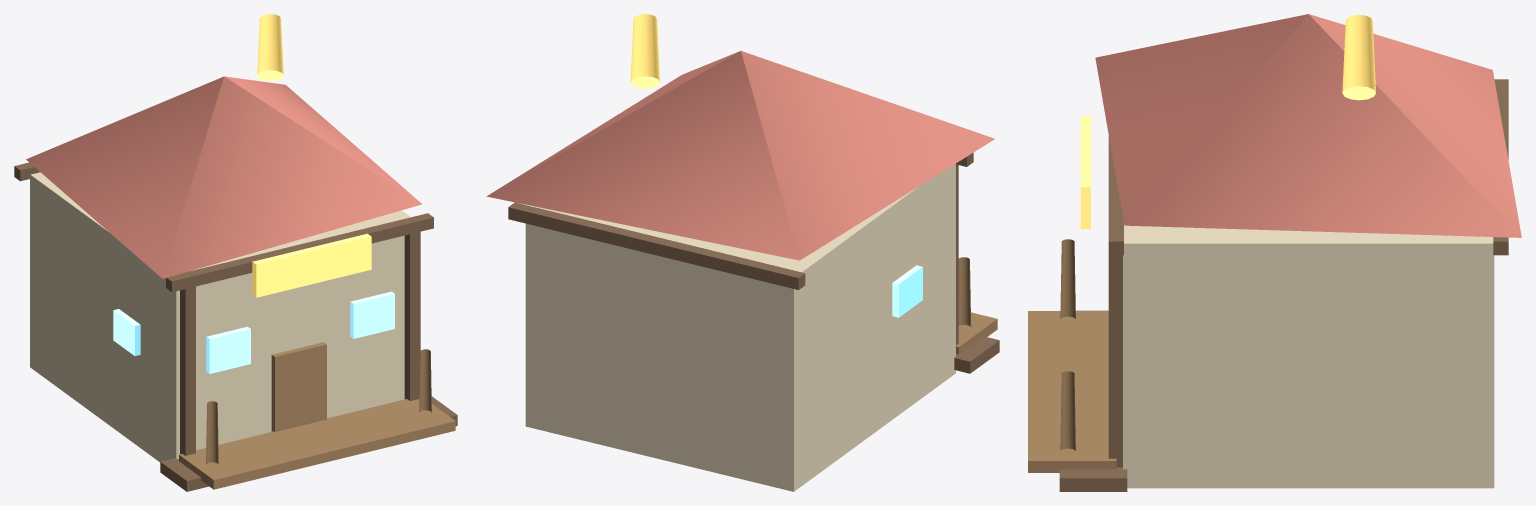
Rendered from seaside_tavern.glb.
3 renders of one model, left to right at view 1: azimuth 30°, elevation 25°; view 2: azimuth 150°, elevation 25°; view 3: azimuth 270°, elevation 25°, orthographic. The views are drawn at different scales.
Visible parts, largest first — view 1: main_walls, roof, porch_props, wood_beams, chimney_and_sign, windows, door; view 2: main_walls, roof, wood_beams, chimney_and_sign, porch_props, windows; view 3: main_walls, roof, porch_props, wood_beams, chimney_and_sign.
Boxes of the visible parts, left/top/right/bottom form: main_walls: left=30, top=172, right=410, bottom=462; roof: left=26, top=76, right=421, bottom=278; porch_props: left=179, top=349, right=455, bottom=489; wood_beams: left=14, top=162, right=457, bottom=491; chimney_and_sign: left=252, top=14, right=371, bottom=297; windows: left=113, top=291, right=394, bottom=373; door: left=271, top=342, right=326, bottom=431; main_walls: left=525, top=164, right=955, bottom=491; roof: left=486, top=51, right=994, bottom=260; wood_beams: left=508, top=152, right=999, bottom=373; chimney_and_sign: left=630, top=14, right=659, bottom=88; porch_props: left=956, top=257, right=997, bottom=354; windows: left=892, top=265, right=922, bottom=317; main_walls: left=1123, top=224, right=1494, bottom=488; roof: left=1095, top=14, right=1521, bottom=237; porch_props: left=1028, top=239, right=1116, bottom=472; wood_beams: left=1059, top=79, right=1508, bottom=491; chimney_and_sign: left=1080, top=15, right=1375, bottom=229.
Bounding box in the file's own units: 5.06 × 5.68 × 5.85.
